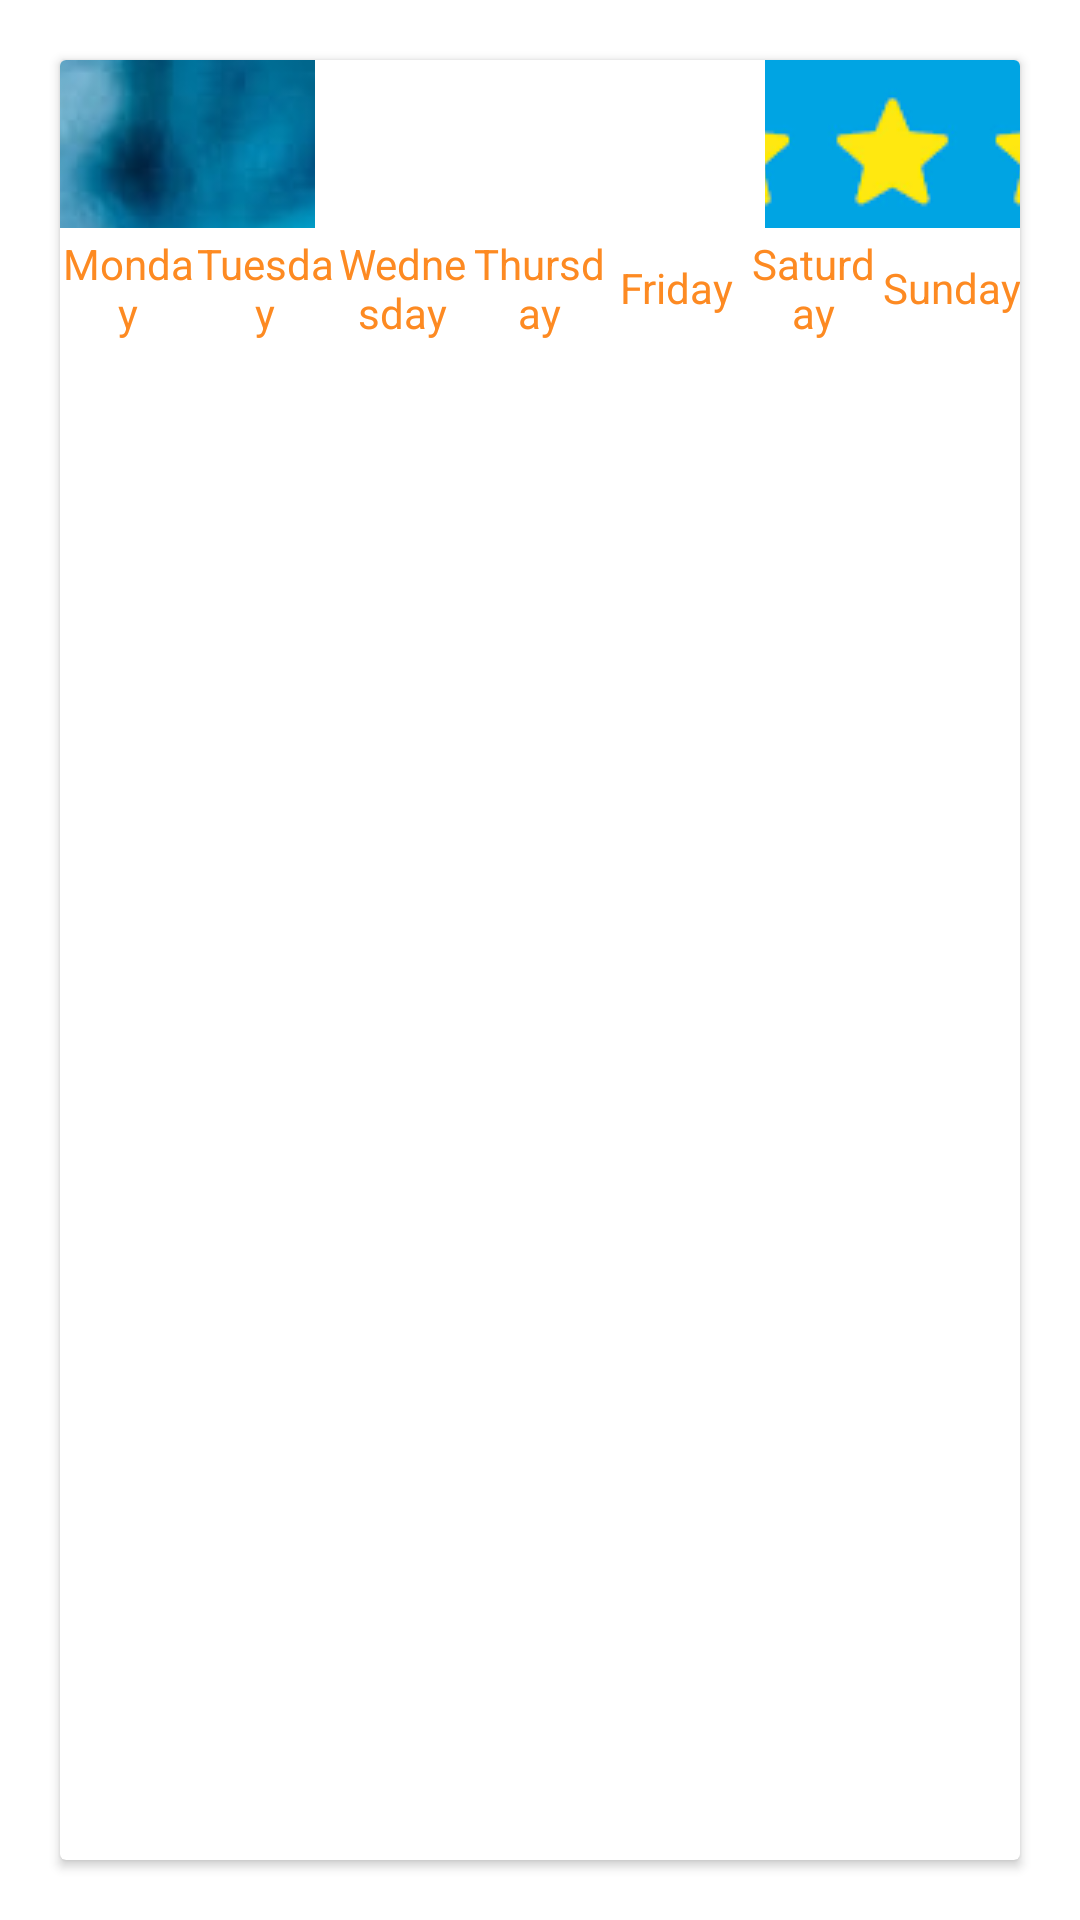

Icon click points for this 1080w x 1920h phone screenshot, format [x,y]:
user rating starts: [892,144]
